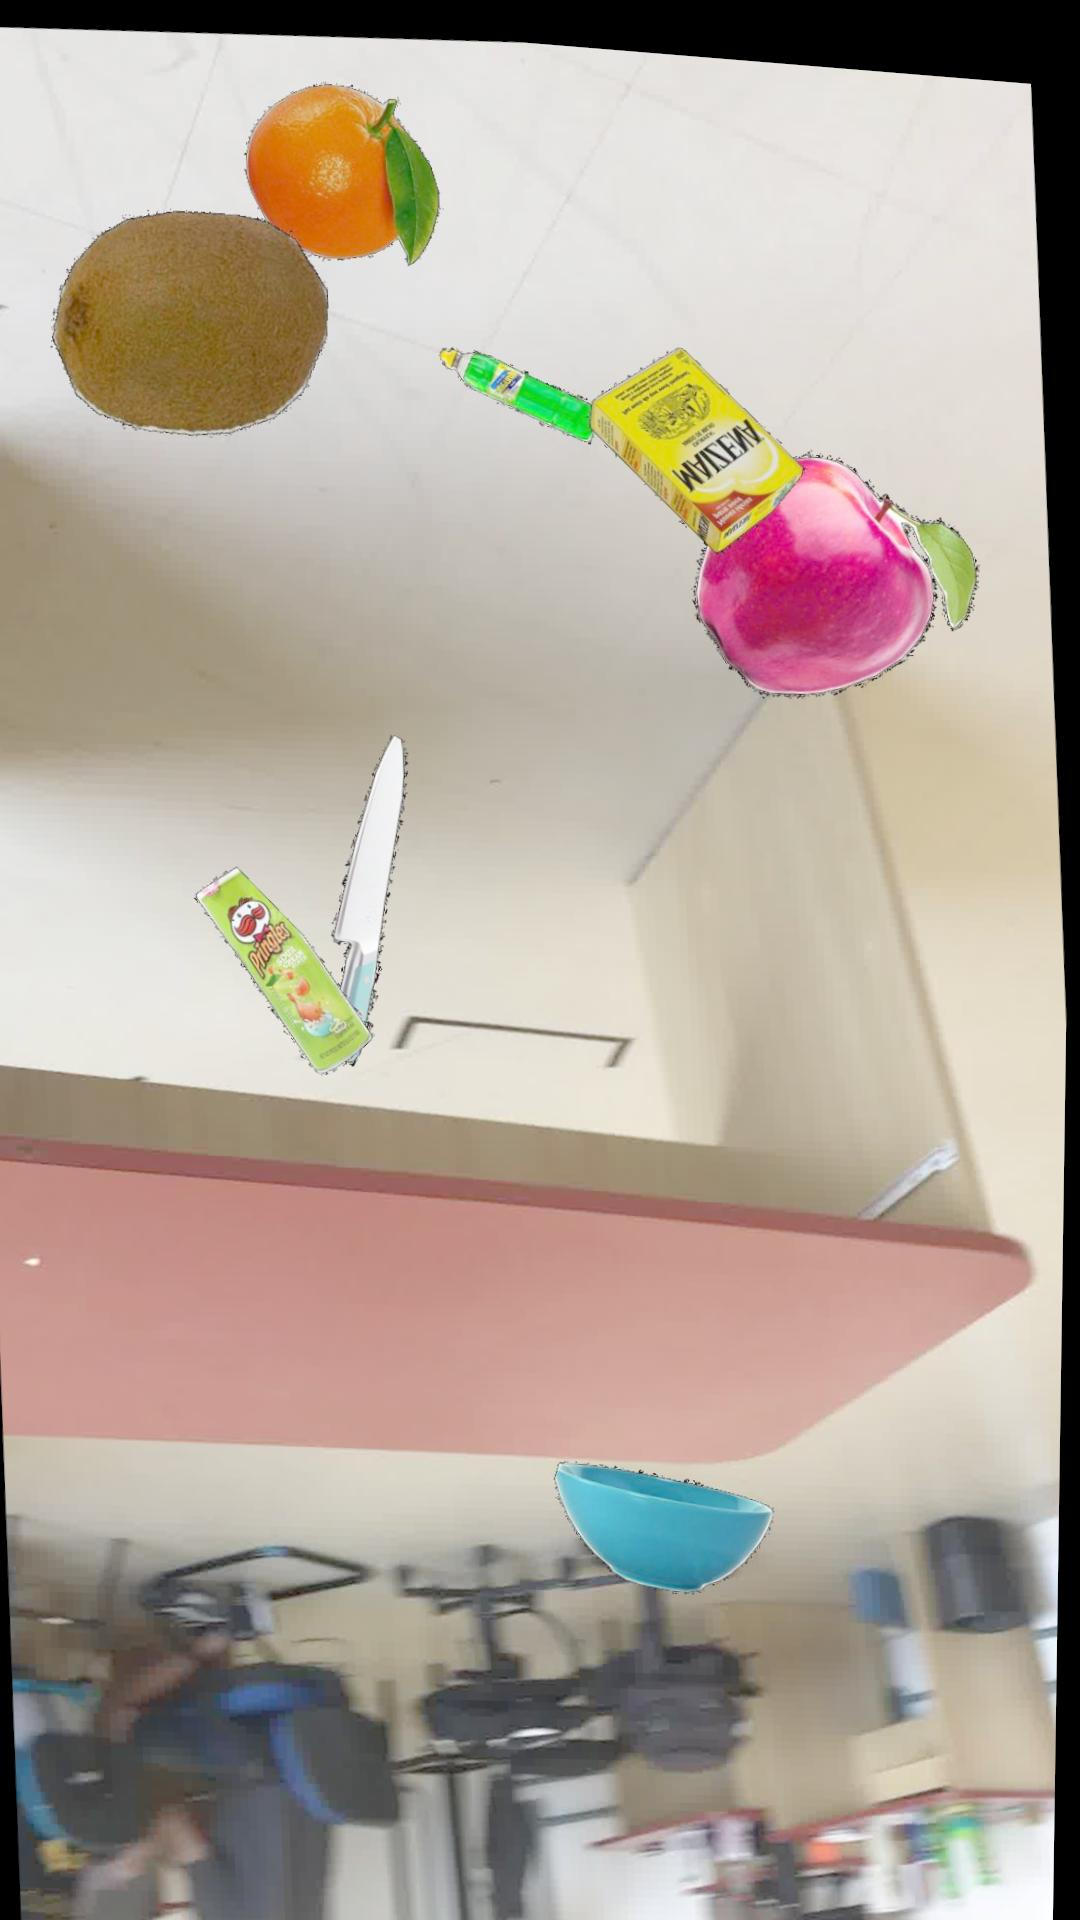apple: (698, 441, 981, 686)
bowl: (560, 1453, 779, 1583)
cleaner: (442, 340, 596, 433)
kiwi: (54, 209, 330, 433)
knife: (335, 729, 412, 1061)
orange: (245, 79, 442, 260)
pringles: (198, 864, 377, 1070)
